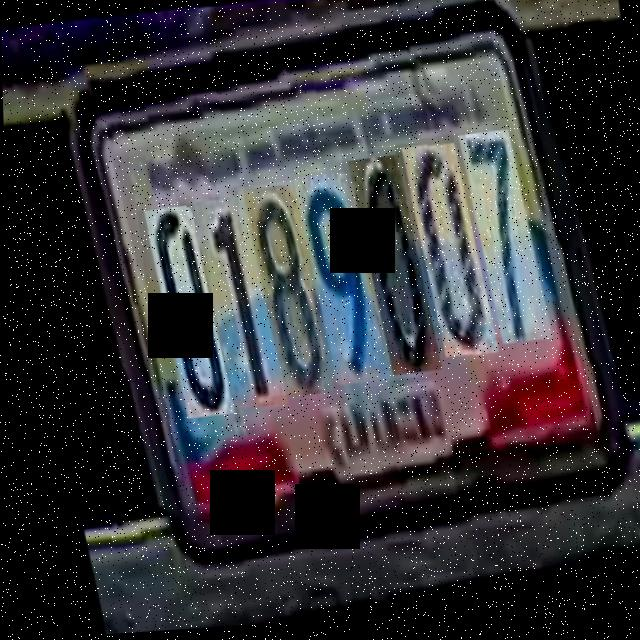0: (393, 138, 486, 362), (135, 203, 223, 424)
1: (184, 192, 275, 416)
7: (451, 123, 541, 348)
8: (235, 181, 321, 402)
9: (286, 167, 377, 390)
O: (340, 149, 430, 380)
